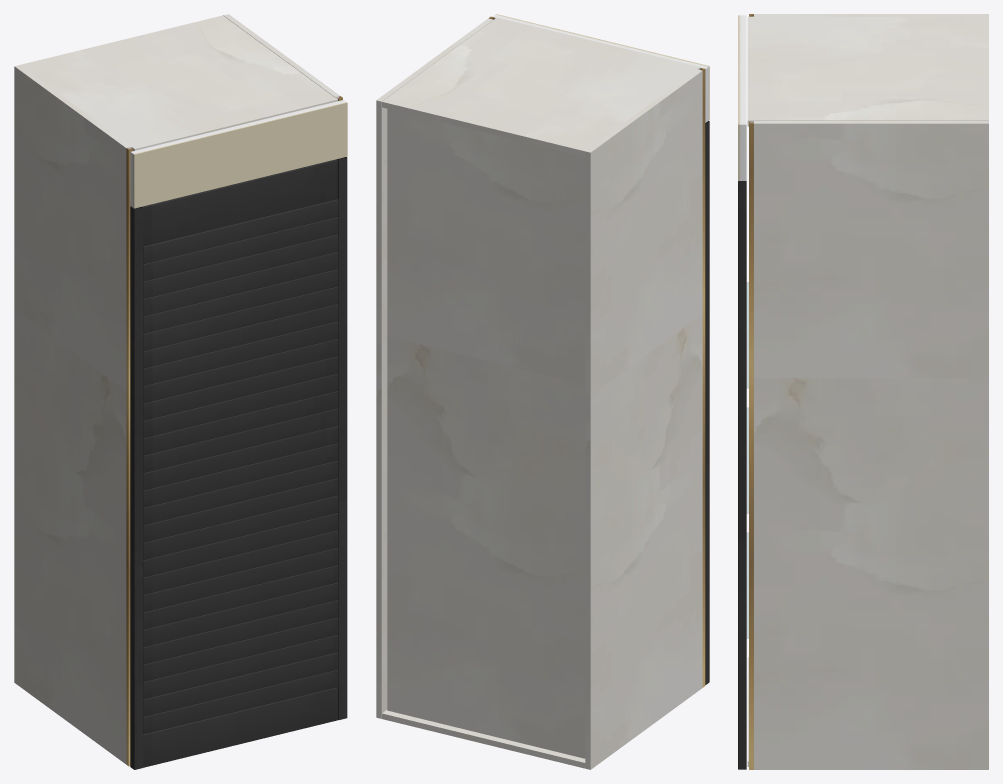
The model's file is WMHC3S1EH1RS (H1650xW600xD336).glb.
3 views of the same model, side by side, from view 1: azimuth 30°, elevation 25°; view 2: azimuth 150°, elevation 25°; view 3: azimuth 270°, elevation 25° (orthographic). The views are drawn at different scales.
Size of what is drawn, in the model's own units: 0.6 by 1.65 by 0.58.
8 materials, 3 textured.
